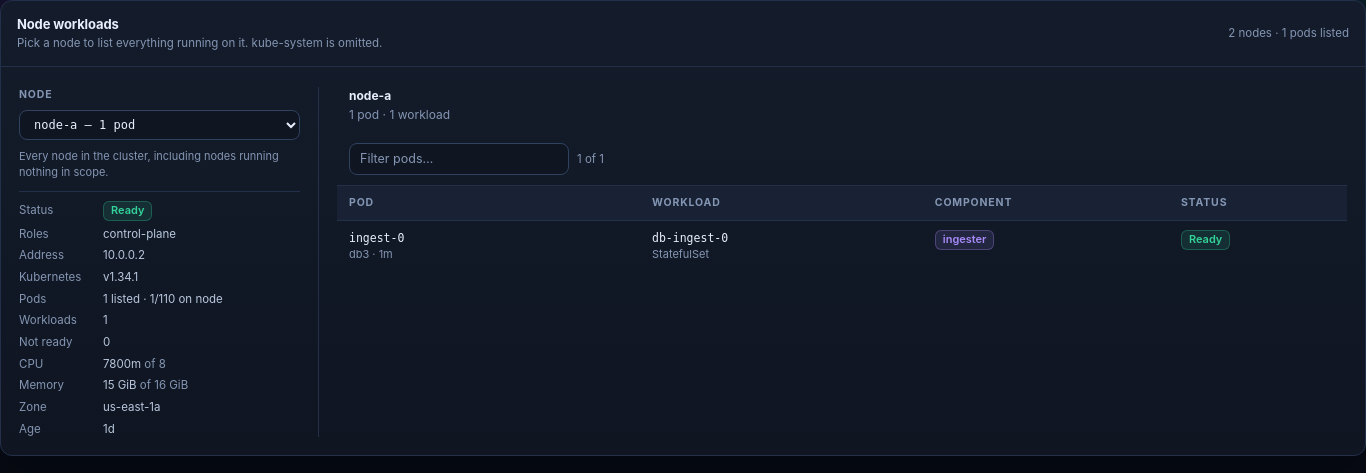
Test: a node running only kube-system pods says so instead of looking empty
Select "node-b — 0 pods" in the dropdown labelled "Node" at (160, 125), box [19,110,300,140]
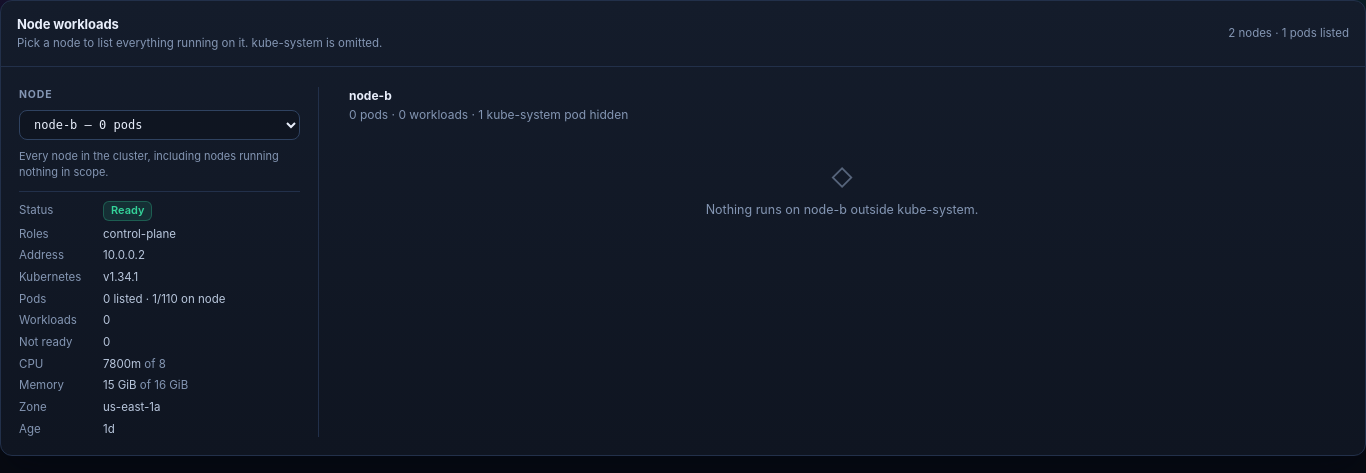
Result: the text "Nothing runs on node-b outside kube-system." is shown at [706,201,978,219]
Result: the text "0 pods · 0 workloads · 1 kube-system pod hidden" is shown at [349,107,628,122]
